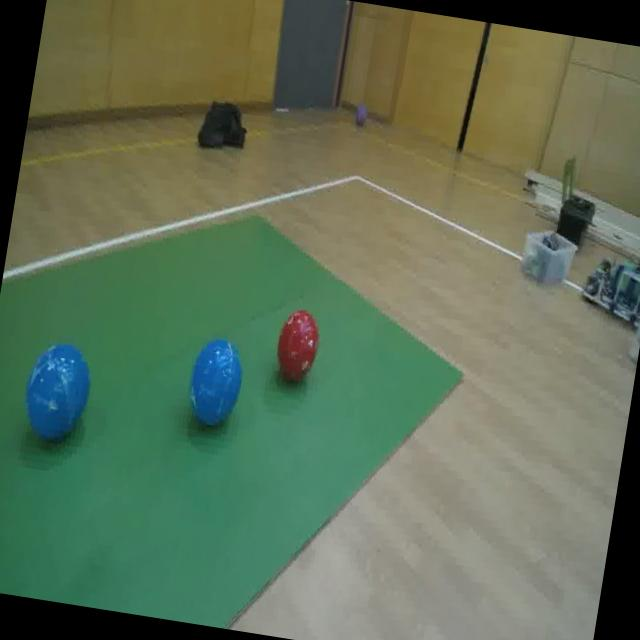blue_ball: (17, 329, 100, 448), (178, 331, 251, 435)
purple_ball: (351, 96, 372, 132)
red_ball: (269, 297, 326, 390)
